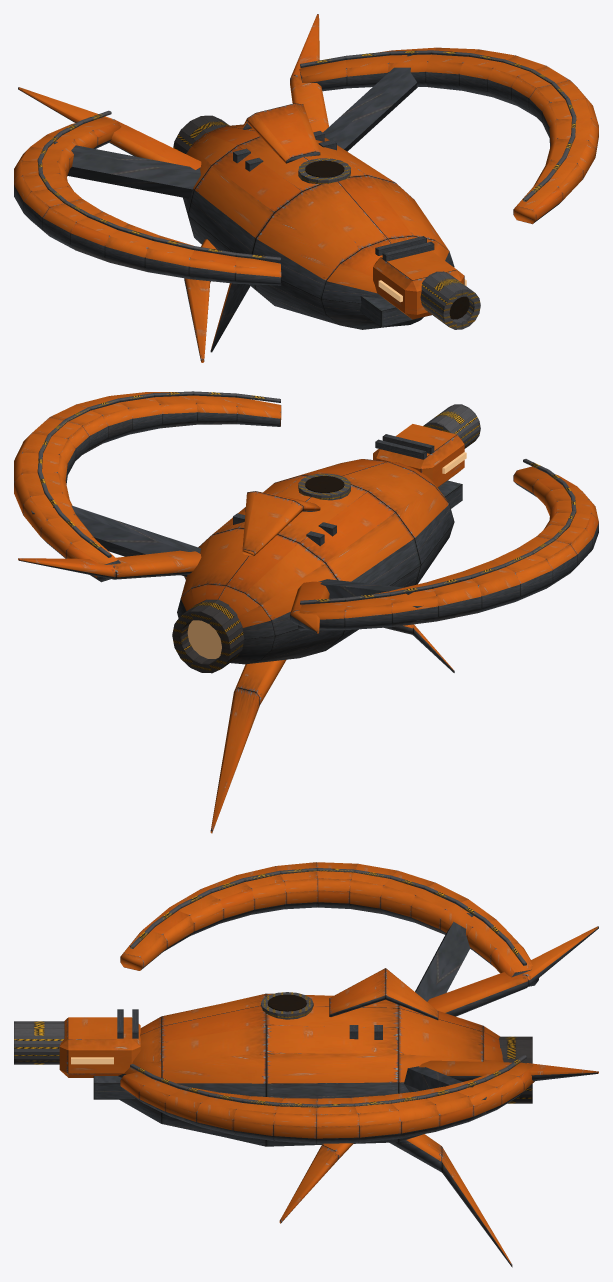
The model's file is pioneer-saturn-l09-laser.glb.
3 views of the same model, one above another, from view 1: azimuth 30°, elevation 25°; view 2: azimuth 150°, elevation 25°; view 3: azimuth 270°, elevation 25° (orthographic).
Visible parts, largest first — view 1: Drone; view 2: Drone; view 3: Drone.
Boxes of the visible parts, x1,y1,x2,y2 form: Drone: (14, 14, 598, 362); Drone: (14, 391, 598, 833); Drone: (14, 862, 598, 1267).
Bounding box in the file's own units: 1.75 × 0.9071 × 1.66.
3 materials, 3 textured.
